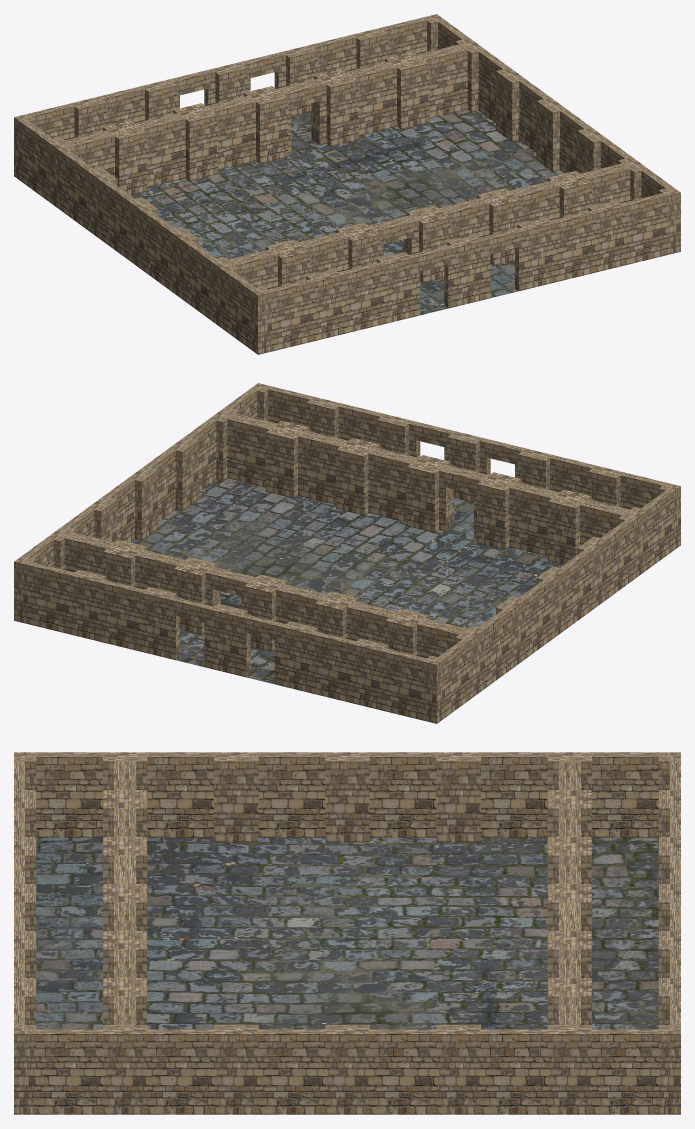
File: 1_6blockChestKeyRoom.fbx
3 renders of one model, top to bottom at view 1: azimuth 30°, elevation 25°; view 2: azimuth 150°, elevation 25°; view 3: azimuth 270°, elevation 25°, orthographic. The views are drawn at different scales.
Parts seen in each view (by area): view 1: Cube_73, Plane; view 2: Cube_73, Plane; view 3: Cube_73, Plane.
Part boxes in pixels (box(x1,y1,x2,y2)): Cube_73: box(14, 14, 680, 354); Plane: box(130, 109, 564, 315); Cube_73: box(14, 383, 680, 723); Plane: box(130, 478, 564, 684); Cube_73: box(14, 752, 680, 1114); Plane: box(36, 837, 658, 1029).
Size of the model in its own units: 60 by 8 by 60.
Materials: 2 (2 with a texture image).
